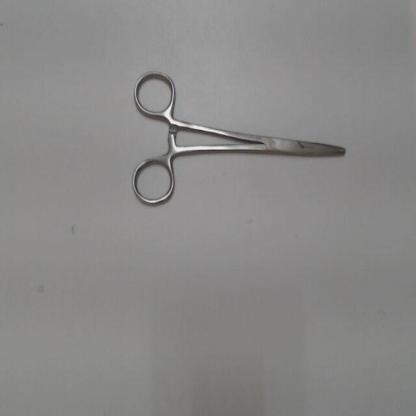Mayo Needle Holder: (127, 62, 355, 215)
